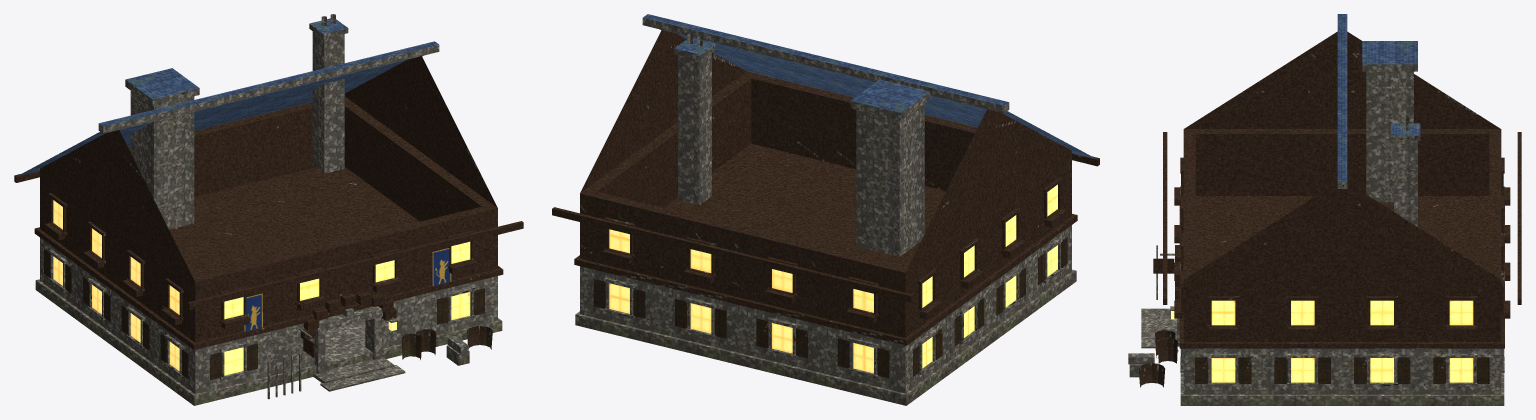
The model's file is bld_smithy_card_lod1.glb.
3 renders of one model, left to right at view 1: azimuth 30°, elevation 25°; view 2: azimuth 150°, elevation 25°; view 3: azimuth 270°, elevation 25°, orthographic. The views are drawn at different scales.
Parts seen in each view (by area): view 1: smithy_card; view 2: smithy_card; view 3: smithy_card.
Boxes of the visible parts, bbox=[...] form: smithy_card: bbox=[14, 14, 523, 405]; smithy_card: bbox=[552, 14, 1099, 405]; smithy_card: bbox=[1128, 14, 1521, 405].
Bounding box in the file's own units: 25.5 × 18.05 × 25.3.
1 material, 1 textured.
